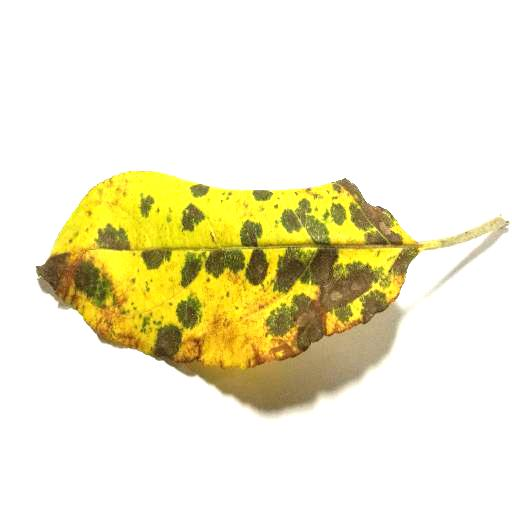Brown_Spot: (241, 255, 415, 342), (304, 182, 416, 252), (40, 254, 125, 317)
